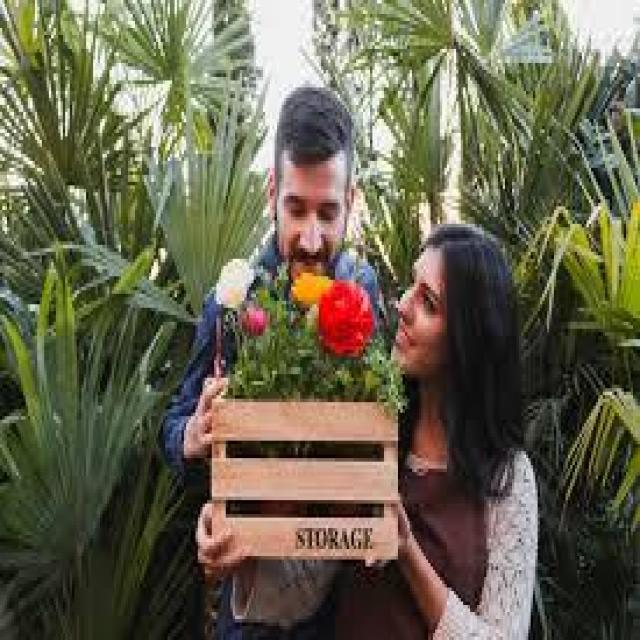organic waste: (320, 278, 369, 362), (210, 256, 260, 312), (344, 254, 384, 306), (287, 268, 334, 310)
